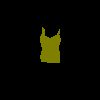canottiera: (40, 26, 60, 62)
